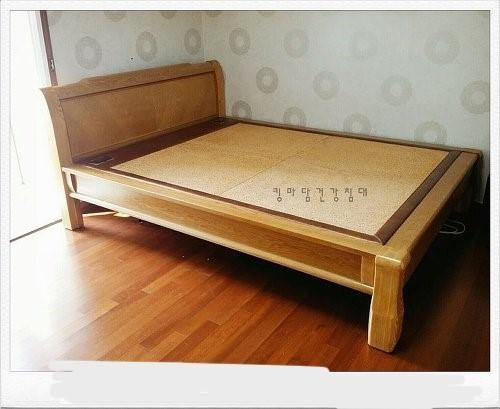Bed-Mattress: (32, 50, 472, 326)
